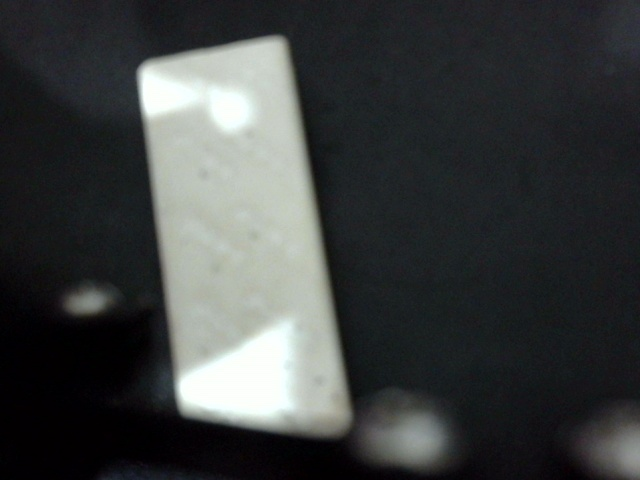eraser: (124, 38, 355, 447)
